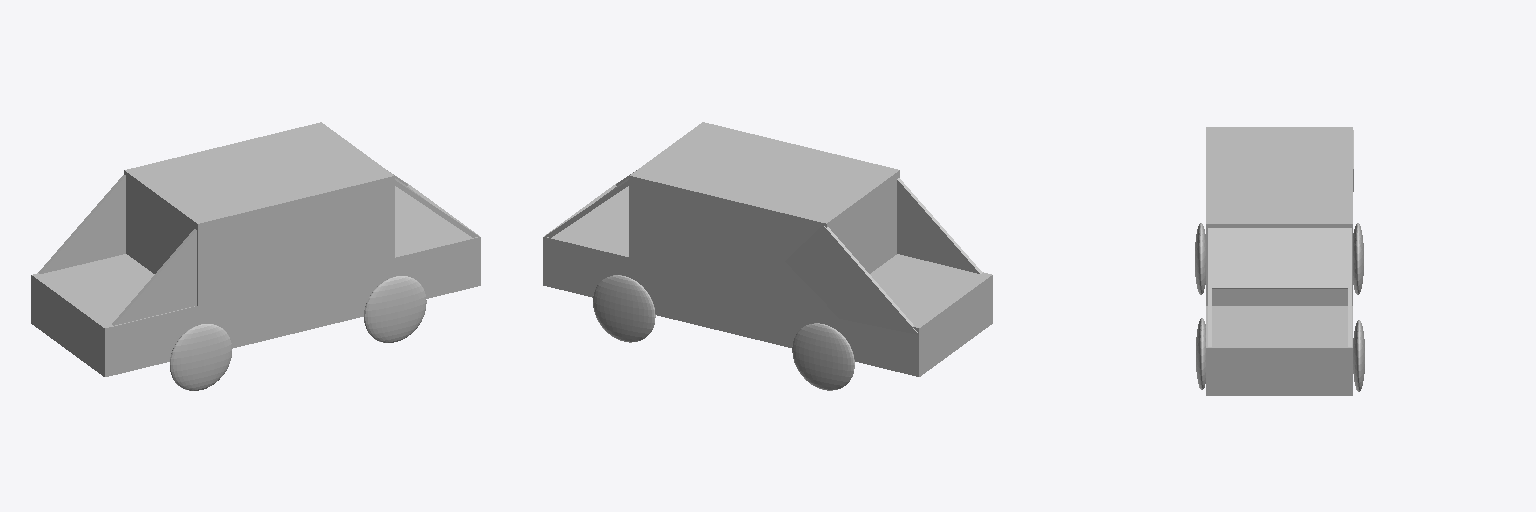
File: Car.obj
3 views of the same model, side by side, from view 1: azimuth 30°, elevation 25°; view 2: azimuth 150°, elevation 25°; view 3: azimuth 270°, elevation 25° (orthographic).
Parts seen in each view (by area): view 1: Car; view 2: Car; view 3: Car.
Boxes of the visible parts, x1=… form: Car: x1=31, y1=122, x2=480, y2=390; Car: x1=543, y1=122, x2=992, y2=390; Car: x1=1195, y1=127, x2=1364, y2=395.
Size of the model in its own units: 1.2 by 0.5018 by 0.4719.